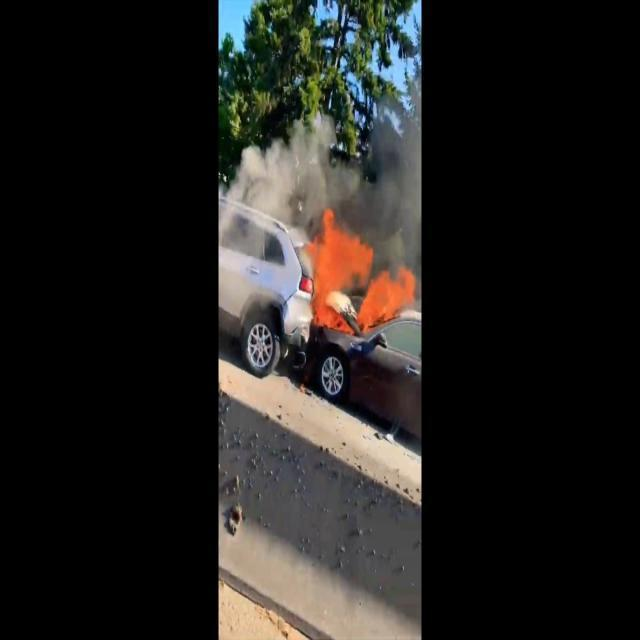fire: (302, 204, 416, 340)
